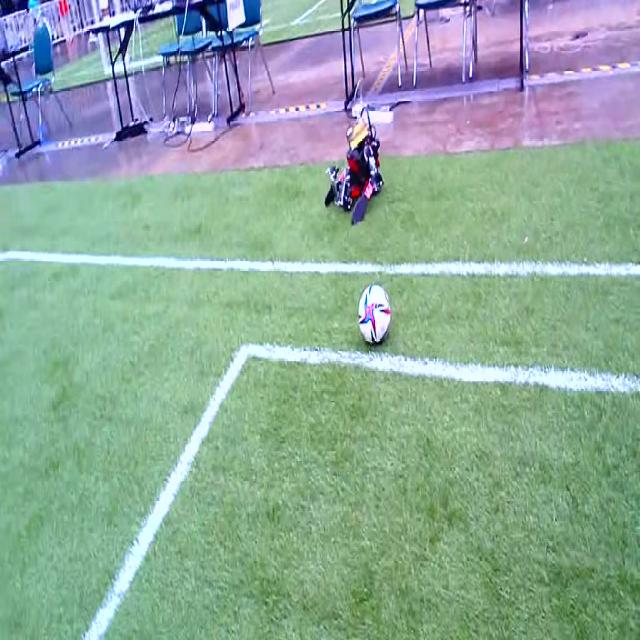ball: (358, 284, 391, 342)
